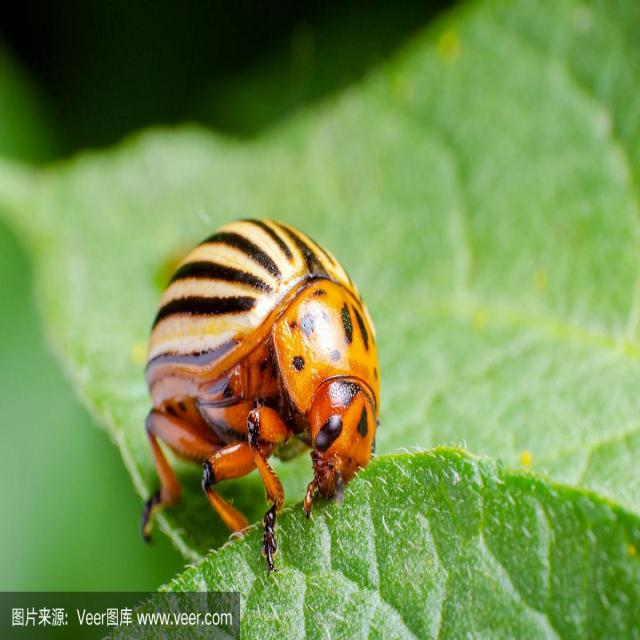ShuCaiHuaBanChong-Grown-: (120, 230, 406, 523)
